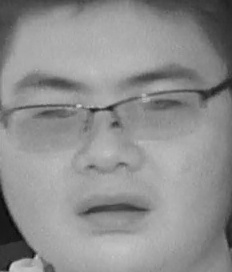eye: (31, 105, 75, 122), (139, 95, 178, 112)
glass: (112, 89, 205, 142), (8, 101, 95, 152)
mouth: (68, 191, 148, 228)
